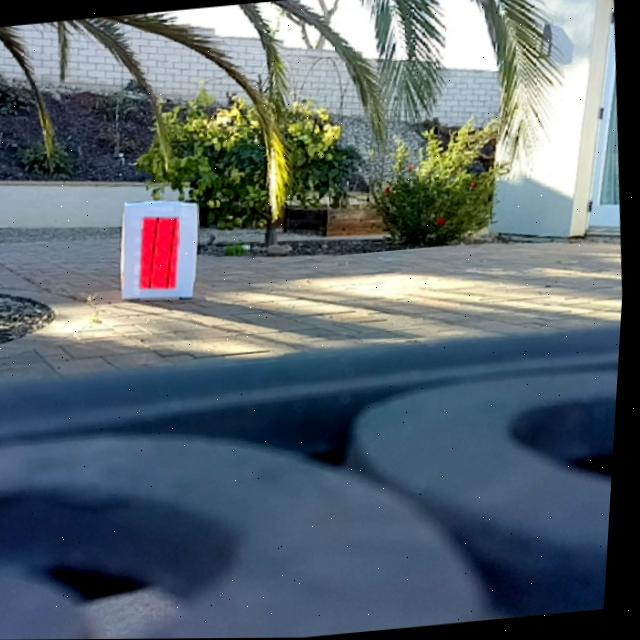led: (137, 213, 186, 291)
